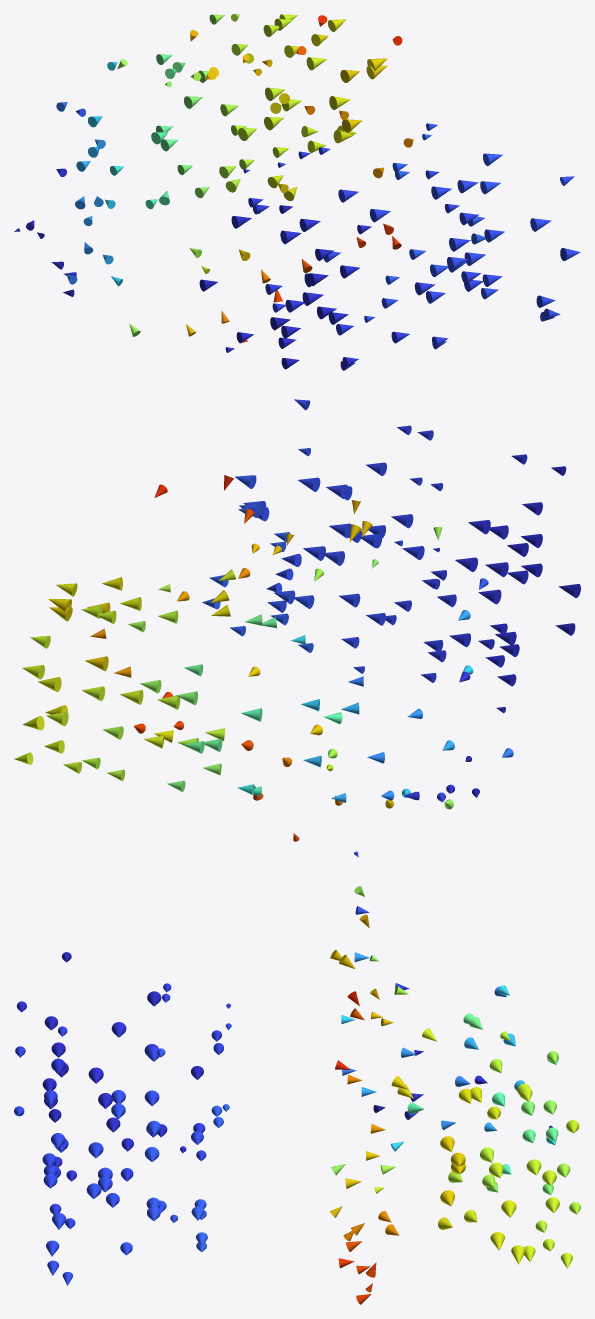
Rendered from LineasCorrienteN2-H2O_mh2-5.58_V-0.8.glb.
3 views of the same model, one above another, from view 1: azimuth 30°, elevation 25°; view 2: azimuth 150°, elevation 25°; view 3: azimuth 270°, elevation 25° (orthographic). The views are drawn at different scales.
Size of the model in its own units: 0.000984 by 0.00081 by 0.0012.
Materials: 2 (2 with a texture image).
